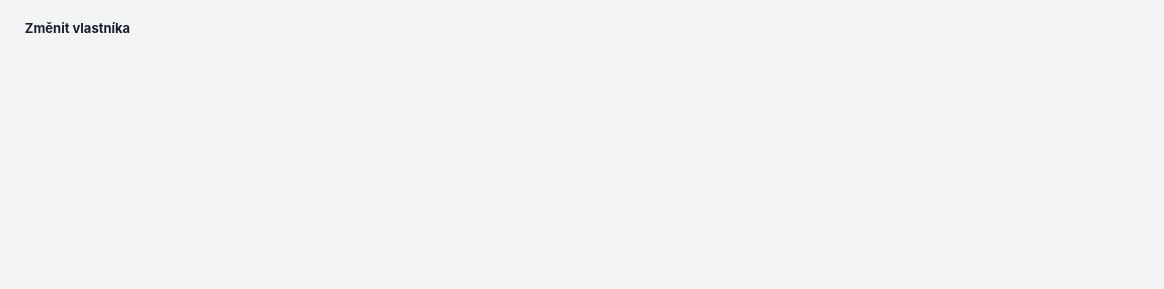
Test: OwnerChange (komponenta) › chyba u pole se ukáže u výběru; Zrušit formulář zavře bez volání akce
Click the button "Změnit vlastníka".
click(77, 28)  # box x1=12 y1=12 x2=143 y2=44
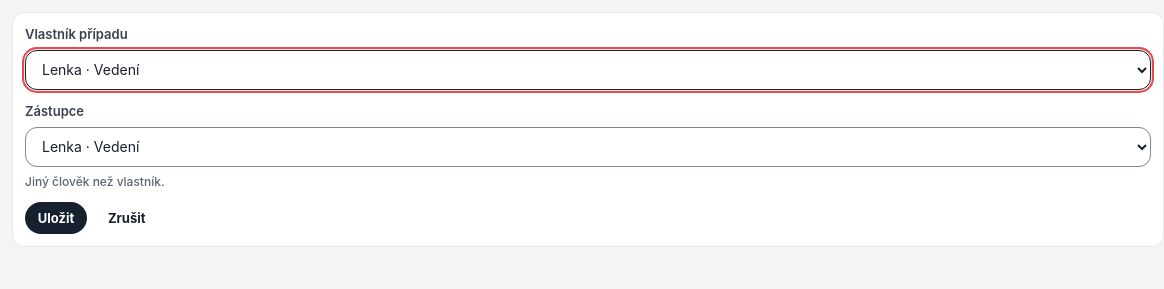
Select "Lenka · Vedení" in the dropdown named "owner_id" at (588,70), box x1=25 y1=50 x2=1151 y2=90
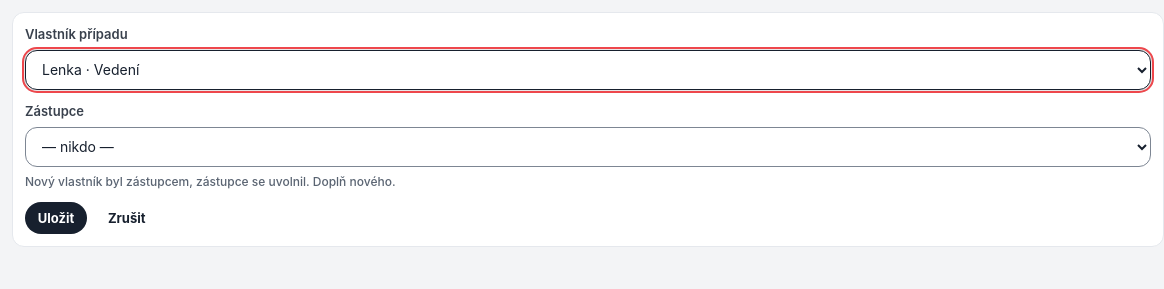
Submit the form
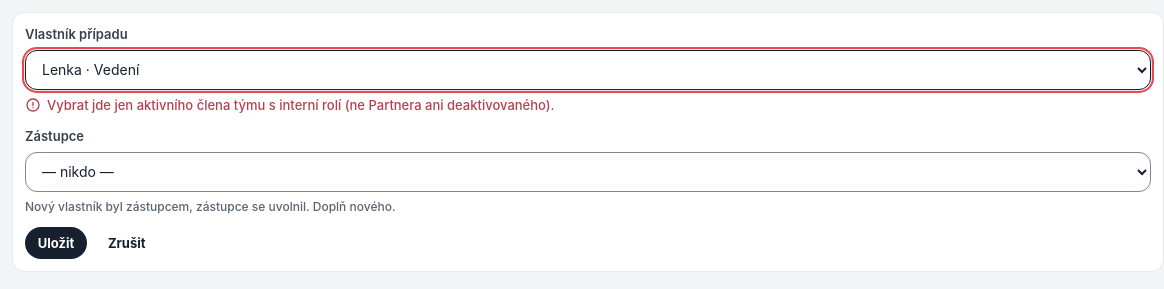
Check: the text "Vybrat jde jen aktivního člena týmu s interní rolí (ne Partnera ani deaktivovaného)." is shown, box x1=47 y1=97 x2=554 y2=113
Click the button "Zrušit".
click(127, 243)  # box x1=95 y1=227 x2=158 y2=259
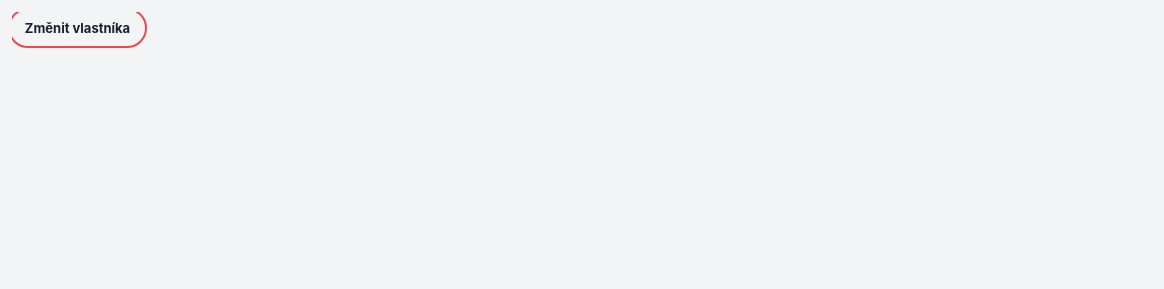
Check: the form is gone
